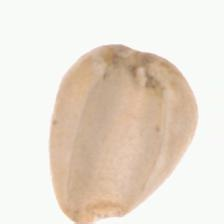L1: (98, 41, 159, 86), (61, 199, 130, 224)
L2: (47, 44, 199, 222)
